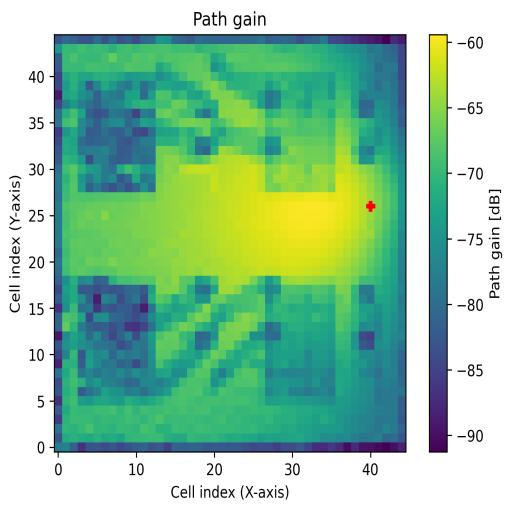Concrete: (266, 72, 335, 193)
Glass: (77, 72, 156, 192)
Metal: (265, 276, 337, 404)
Wood: (77, 276, 156, 405)
